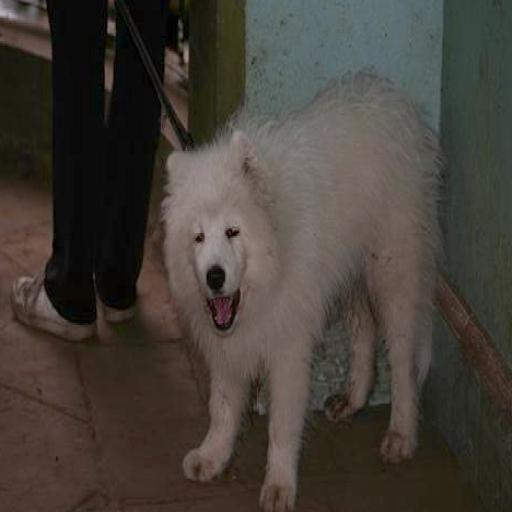dog_face: (166, 144, 265, 347)
